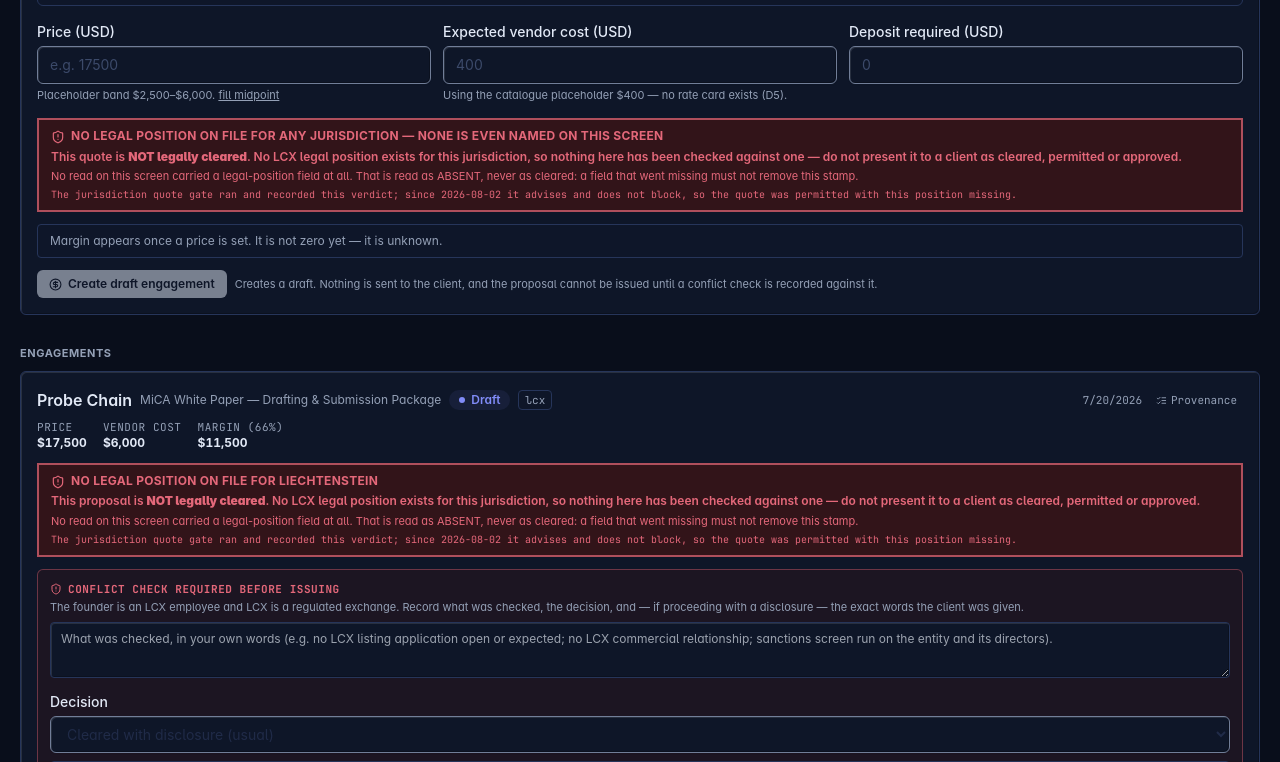
it: the inspector is reachable from the quote desk › opens on the row and shows the provenance grade first
(page scrolled)
Click the button with aria-label "provenance of the".
click(1196, 400)  # box left=1150, top=391, right=1243, bottom=410
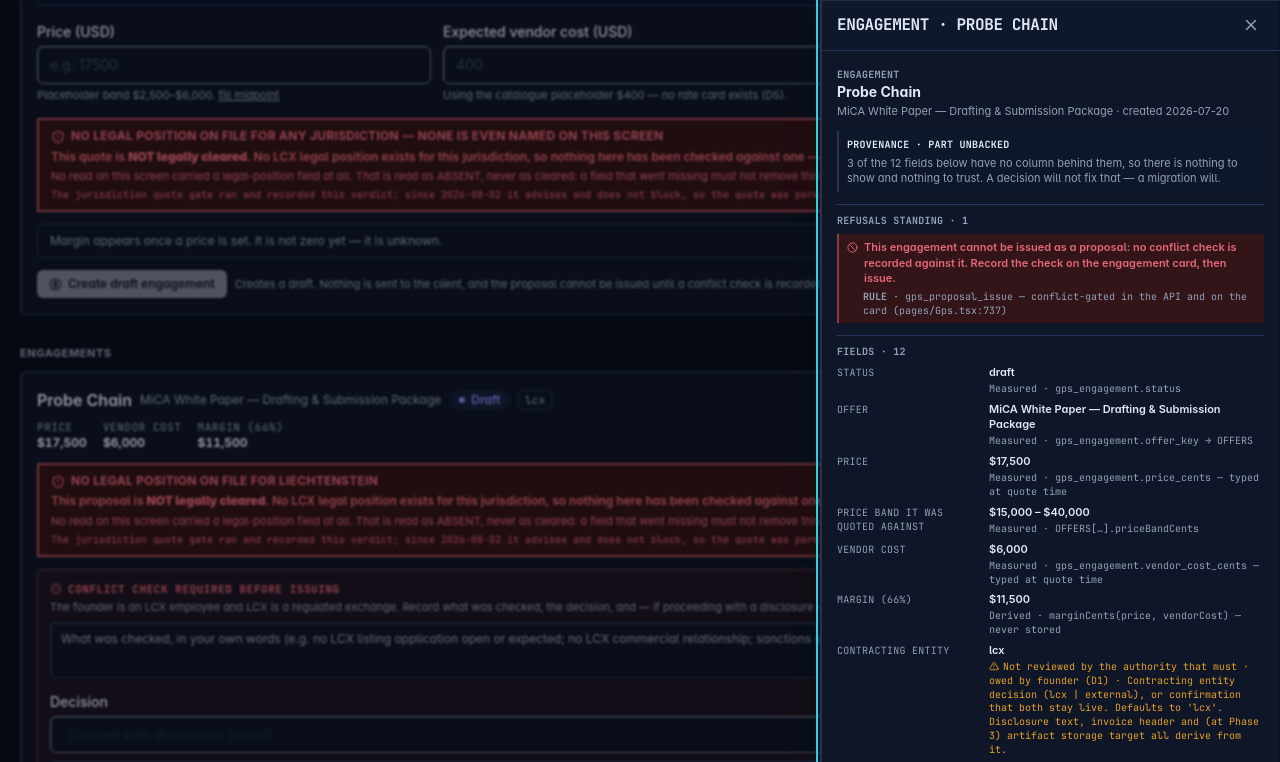
Expected: the text "Provenance · PART UNBACKED" is shown, left=847, top=138, right=1010, bottom=151
